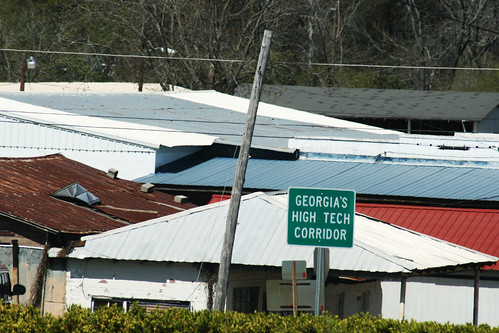building: (88, 200, 498, 331), (1, 156, 162, 333), (1, 85, 293, 158), (237, 78, 499, 133)
sign: (290, 189, 356, 250)
vegetation: (5, 1, 499, 76)
